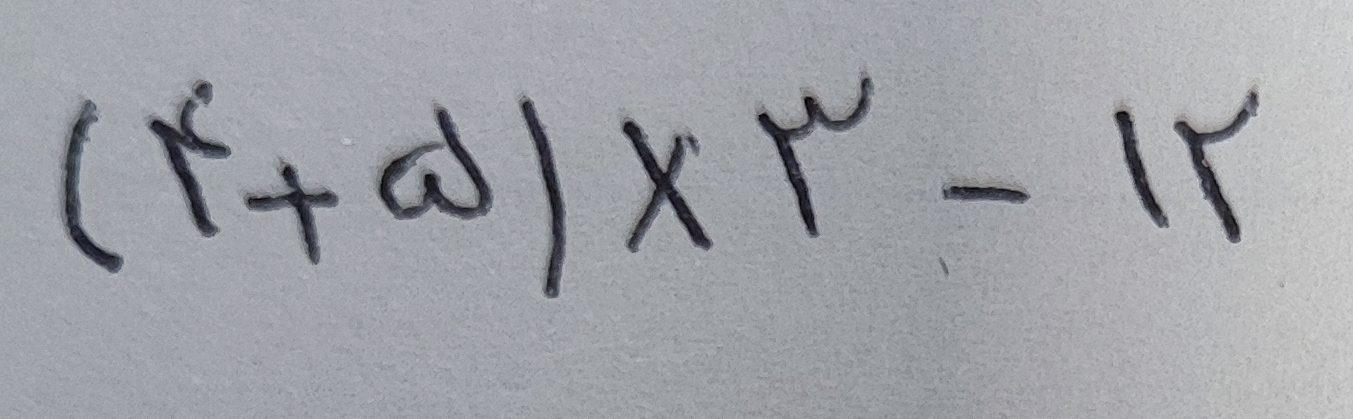character: (740, 58, 879, 253), (1174, 69, 1290, 249), (369, 77, 495, 240), (601, 105, 716, 265), (142, 71, 237, 258), (47, 80, 129, 279), (508, 81, 570, 323), (1082, 98, 1172, 236), (243, 152, 346, 271), (925, 156, 1038, 209)
